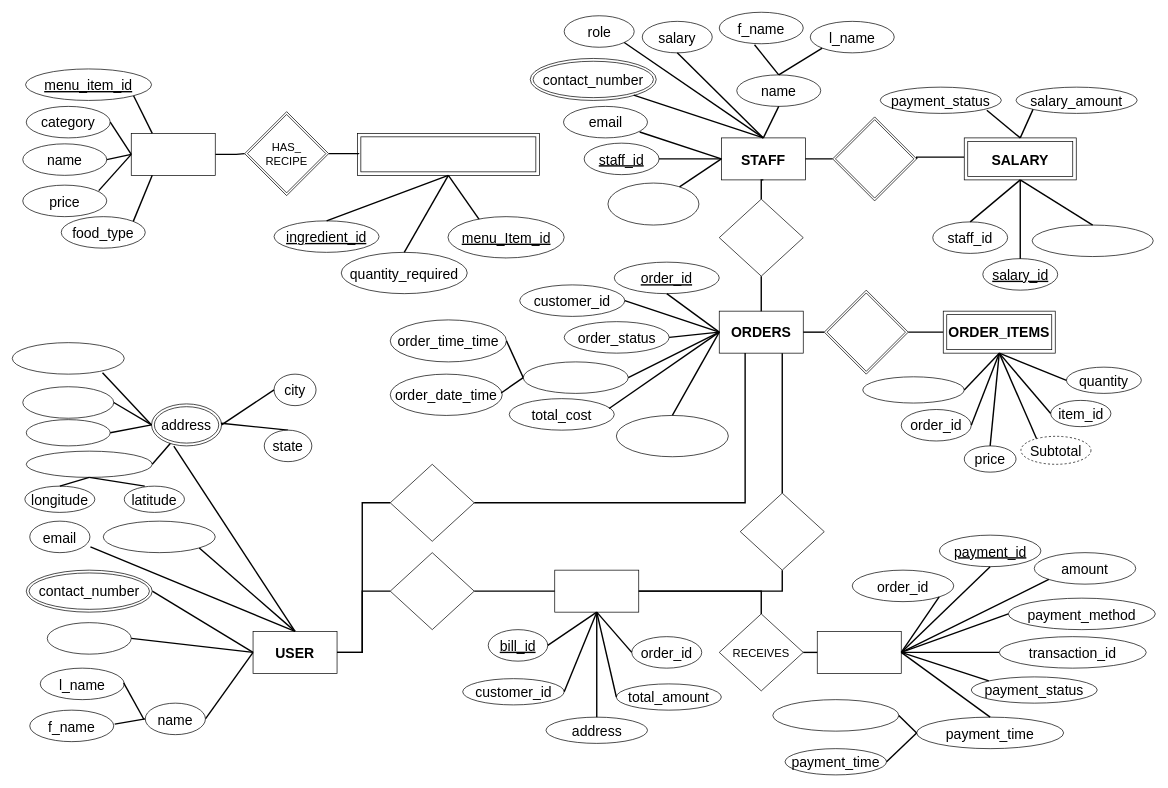
Image size: 1168x788. Some labels were removed from this diagram. The shapes that lost their labels are listed below. From the top down, each one's centre as x and y in pixels, then its label:
At (x=173, y=154): "MENU".
At (x=448, y=154): "MENU_INGREDIENTS".
At (x=874, y=158): "TO BE PAID".
At (x=653, y=203): "hiring_date".
At (x=761, y=237): "DELIVERS".
At (x=1092, y=240): "salary amount".
At (x=866, y=331): "CONTAINS".
At (x=68, y=358): "flat/house_no".
At (x=575, y=377): "order_time".
At (x=68, y=402): "soc_name".
At (x=913, y=389): "order_item_id".
At (x=68, y=432): "street/area".
At (x=672, y=436): "delivery_partner".
At (x=89, y=463): "geo_coordinates".
At (x=432, y=502): "PLACES".
At (x=159, y=536): "date_of_birth".
At (x=782, y=531): "GENERATE".
At (x=432, y=591): "PAYS".
At (x=596, y=590): "BILLING".
At (x=89, y=638): "user_id".
At (x=859, y=652): "PAYMENTS".
At (x=835, y=715): "payment_date".
